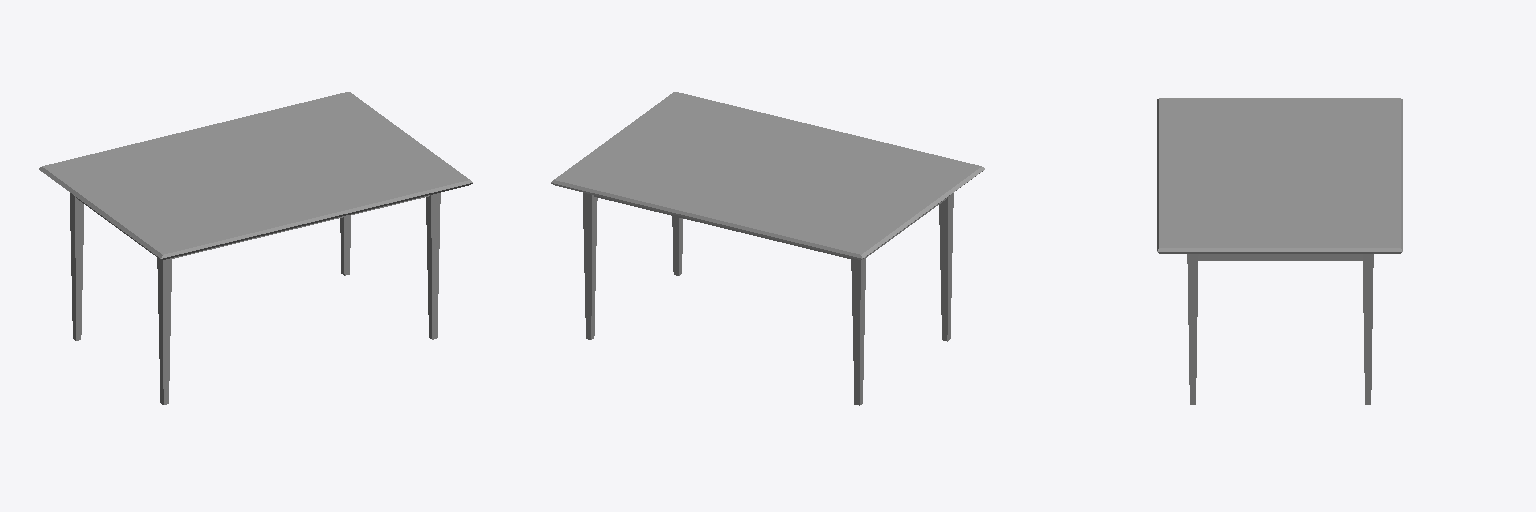
Rendered from simple_table.obj.
The picture shows the model from 3 angles: view 1: azimuth 30°, elevation 25°; view 2: azimuth 150°, elevation 25°; view 3: azimuth 270°, elevation 25°; orthographic projection.
Visible parts, largest first — view 1: table__Cube.001, Cube.003_Cube.007, Cube.001_Cube.008, Cube.004_Cube.005, Cube.002_Cube.009; view 2: table__Cube.001, Cube.004_Cube.005, Cube.002_Cube.009, Cube.003_Cube.007, Cube.001_Cube.008; view 3: table__Cube.001, Cube.002_Cube.009, Cube.001_Cube.008, Cube.005_Cube.006.
Boxes of the visible parts, x1,y1,x2,y2 form: table__Cube.001: [39, 92, 472, 259]; Cube.003_Cube.007: [157, 256, 171, 404]; Cube.001_Cube.008: [426, 193, 440, 339]; Cube.004_Cube.005: [70, 193, 83, 340]; Cube.002_Cube.009: [340, 216, 350, 275]; table__Cube.001: [551, 92, 984, 259]; Cube.004_Cube.005: [851, 257, 865, 405]; Cube.002_Cube.009: [583, 193, 597, 339]; Cube.003_Cube.007: [939, 193, 953, 341]; Cube.001_Cube.008: [672, 216, 682, 275]; table__Cube.001: [1157, 98, 1402, 253]; Cube.002_Cube.009: [1363, 254, 1373, 404]; Cube.001_Cube.008: [1187, 254, 1198, 404]; Cube.005_Cube.006: [1198, 254, 1362, 260].
Size of the model in its own units: 3.99 by 2.02 by 2.72.